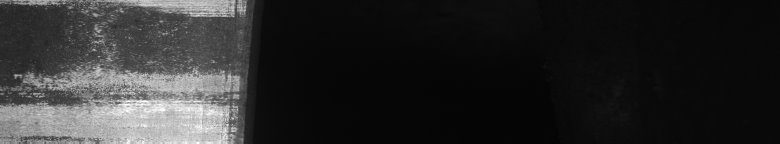kb: (4, 4, 232, 127)
